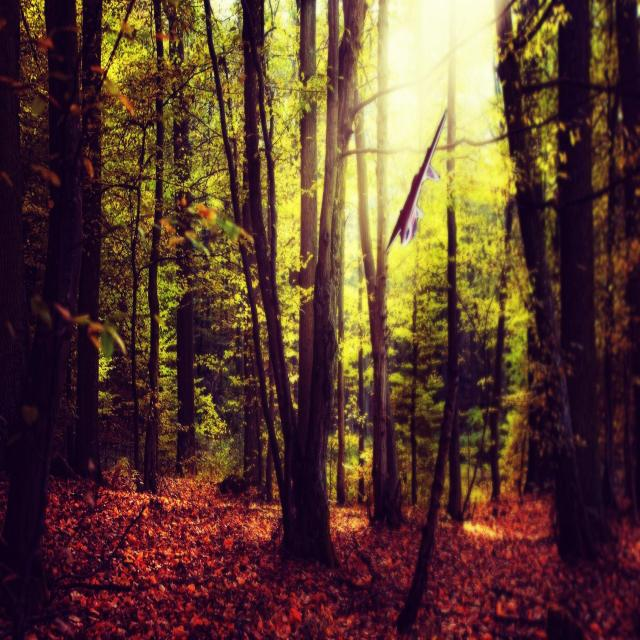airplane: (384, 106, 448, 254)
